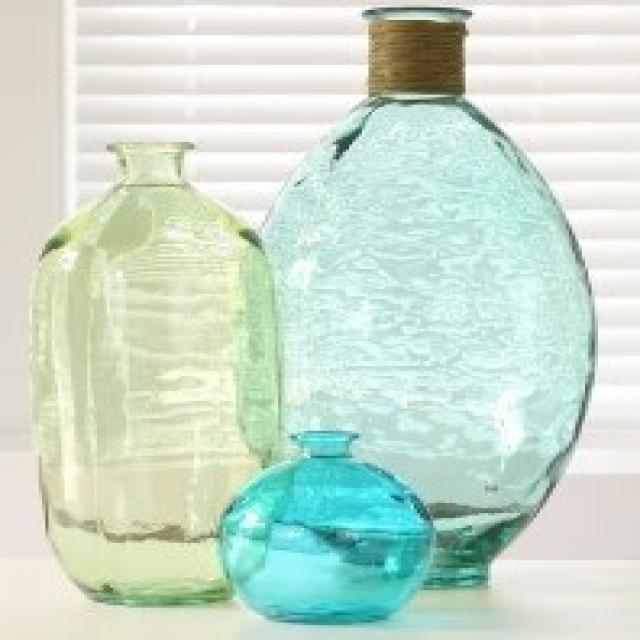electronic: (25, 0, 599, 629)
